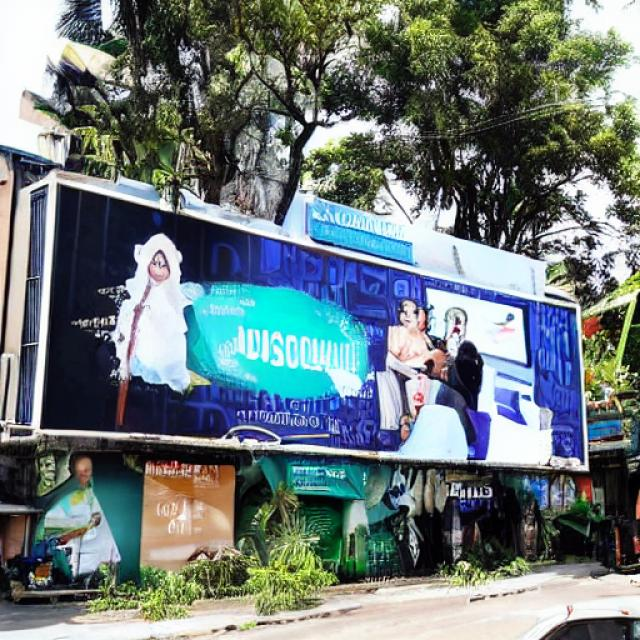Billboard: (28, 171, 594, 479)
